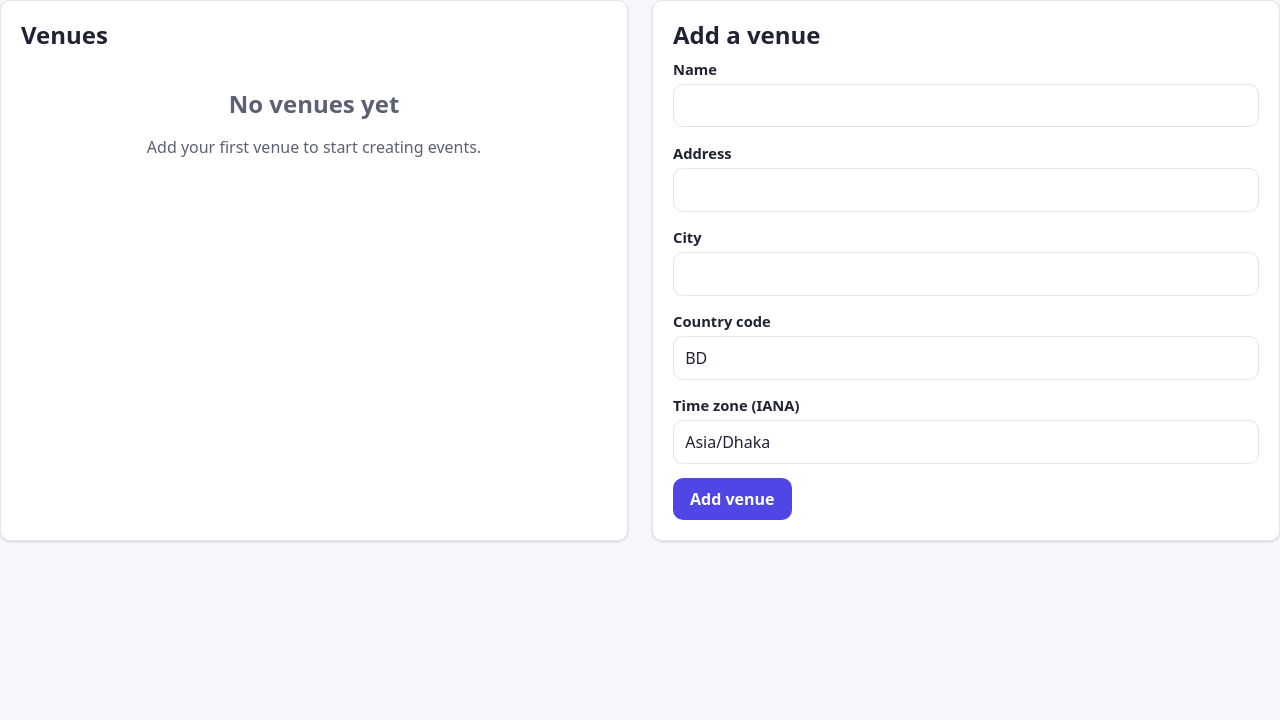
Test case: VenuesPage › shows the empty state and server errors
Check: the heading "No venues yet" is shown, box [229, 87, 399, 120]
Click the button "Add venue". click: (732, 499)
box: [673, 478, 792, 520]
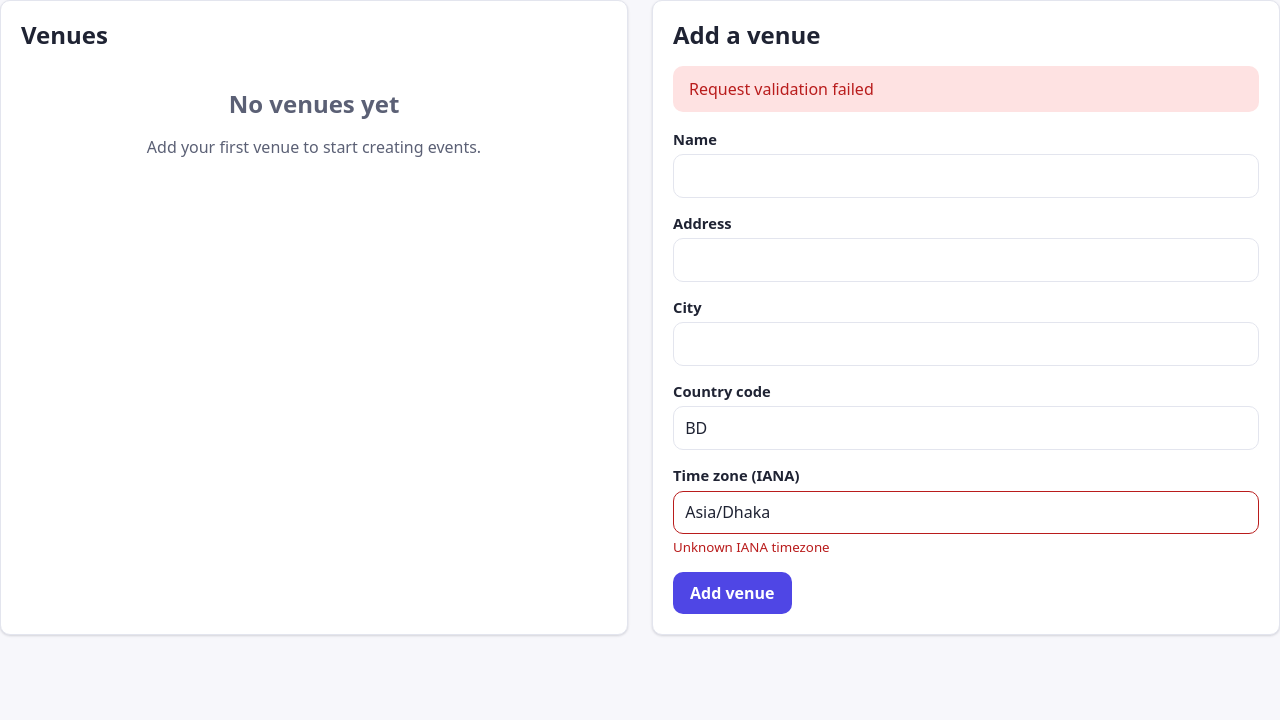
Check: the text "Unknown IANA timezone" is shown, box [673, 538, 830, 556]
